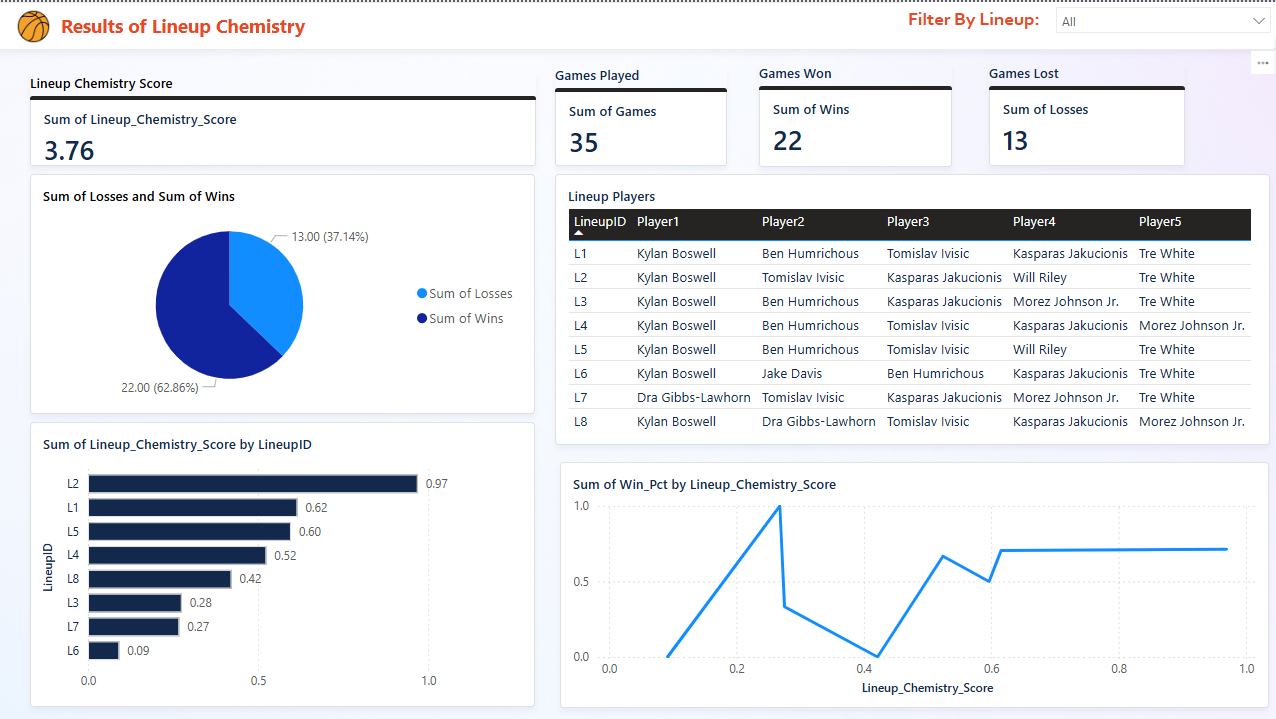

The page's visual inventory and layout, read from the dashboard file:
{"tool":"powerbi","page":{"name":"Results of Lineup Chemistry","canvas":[1280,720],"ordinal":1},"visuals":[{"type":"shape","box":[0,0,1280,48],"z":0},{"type":"tableEx","title":"Lineup Players","fields":{"Values":["Cleaned_Starting_Lineups.LineupID","Cleaned_Starting_Lineups.Player1","Cleaned_Starting_Lineups.Player2","Cleaned_Starting_Lineups.Player3","Cleaned_Starting_Lineups.Player4","Cleaned_Starting_Lineups.Player5"]},"box":[558.9,172.2,715.6,271.1],"z":1000},{"type":"cardVisual","title":"Games Played","fields":{"Data":["Lineup_Chemistry_Scores Final.Games"]},"box":[558.9,64.4,172.2,100],"z":2000},{"type":"cardVisual","title":"Lineup Chemistry Score","fields":{"Data":["Lineup_Chemistry_Scores Final.Lineup_Chemistry_Score"]},"box":[34,72,506,92],"z":3000},{"type":"textbox","box":[60,6,324,40],"z":4000},{"type":"cardVisual","title":"Games Won","fields":{"Data":["Lineup_Chemistry_Scores Final.Wins"]},"box":[763,62,193,103],"z":5000},{"type":"cardVisual","title":"Games Lost","fields":{"Data":["Lineup_Chemistry_Scores Final.Losses"]},"box":[993.3,62.2,195.6,102.2],"z":6000},{"type":"pieChart","fields":{"Y":["Lineup_Chemistry_Scores Final.Losses","Lineup_Chemistry_Scores Final.Wins"]},"box":[34,172,505,240],"z":7000},{"type":"lineChart","fields":{"Category":["Lineup_Chemistry_Scores Final.Lineup_Chemistry_Score"],"Y":["Lineup_Chemistry_Scores Final.Win_Pct"]},"box":[564.4,460,708.9,245.6],"z":8000},{"type":"textbox","box":[907,0,148,37],"z":9000},{"type":"slicer","fields":{"Values":["Cleaned_Starting_Lineups.LineupID"]},"box":[1055,0,225,37],"z":10000},{"type":"clusteredBarChart","fields":{"Category":["Lineup_Chemistry_Scores Final.LineupID"],"Y":["Lineup_Chemistry_Scores Final.Lineup_Chemistry_Score"]},"box":[34,420,505,285],"z":11000},{"type":"image","box":[15,0,45,48],"z":12000}]}

Visuals, with their boxes in screenshot pixels (x1, y1, x2, y2), scaled from the page's 1280x720 canvas onto the 1276x719 screenshot:
shape: detection(0, 0, 1275, 48)
"Lineup Players" tableEx: detection(557, 172, 1271, 443)
"Games Played" cardVisual: detection(557, 64, 729, 164)
"Lineup Chemistry Score" cardVisual: detection(34, 72, 538, 164)
textbox: detection(60, 6, 383, 46)
"Games Won" cardVisual: detection(761, 62, 953, 165)
"Games Lost" cardVisual: detection(990, 62, 1185, 164)
pieChart - Lineup_Chemistry_Scores Final.Losses x Lineup_Chemistry_Scores Final.Wins: detection(34, 172, 537, 411)
lineChart - Lineup_Chemistry_Scores Final.Lineup_Chemistry_Score x Lineup_Chemistry_Scores Final.Win_Pct: detection(563, 459, 1269, 705)
textbox: detection(904, 0, 1052, 37)
slicer - Cleaned_Starting_Lineups.LineupID: detection(1052, 0, 1275, 37)
clusteredBarChart - Lineup_Chemistry_Scores Final.LineupID x Lineup_Chemistry_Scores Final.Lineup_Chemistry_Score: detection(34, 419, 537, 704)
image: detection(15, 0, 60, 48)
